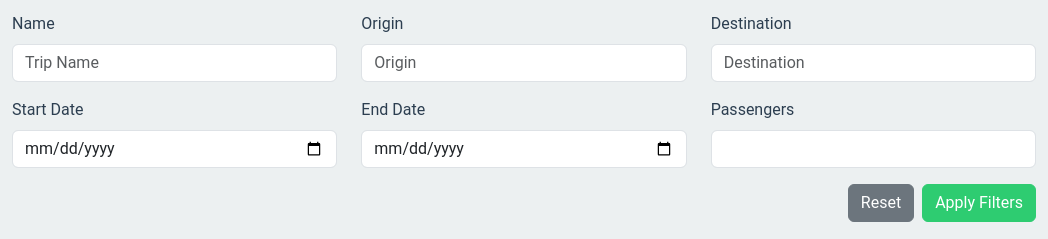
it: TripFilterForm › handles filter reset
// Set some filter values first.
Type "Test Trip" into the field labelled "Trip Name". click: (175, 63)
box: left=12, top=44, right=337, bottom=82
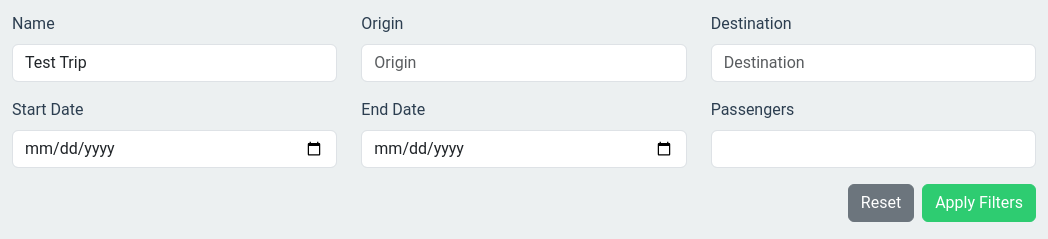
Type "SFO" into the field labelled "Origin". click: (524, 63)
box: left=361, top=44, right=687, bottom=82
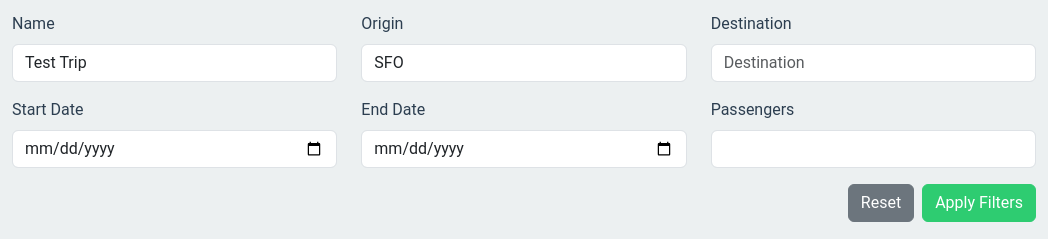
// Reset filters.
Click the button "Reset". click: (881, 203)
box: left=848, top=184, right=914, bottom=222
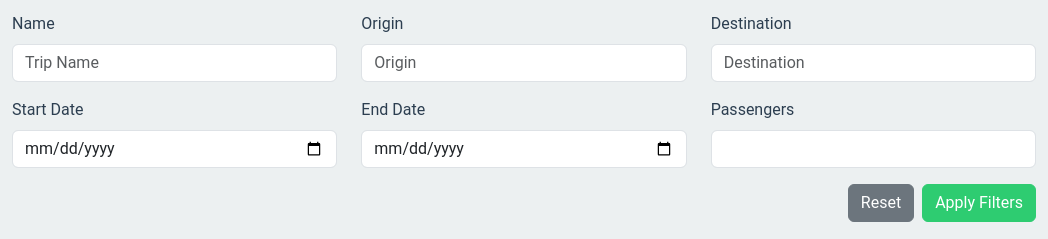
Expected: the field labelled "Trip Name" is empty, left=12, top=44, right=337, bottom=82
Expected: the field labelled "Origin" is empty, left=361, top=44, right=687, bottom=82
